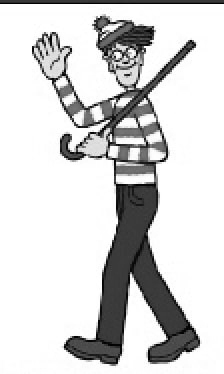Waldo: (16, 9, 207, 366)
